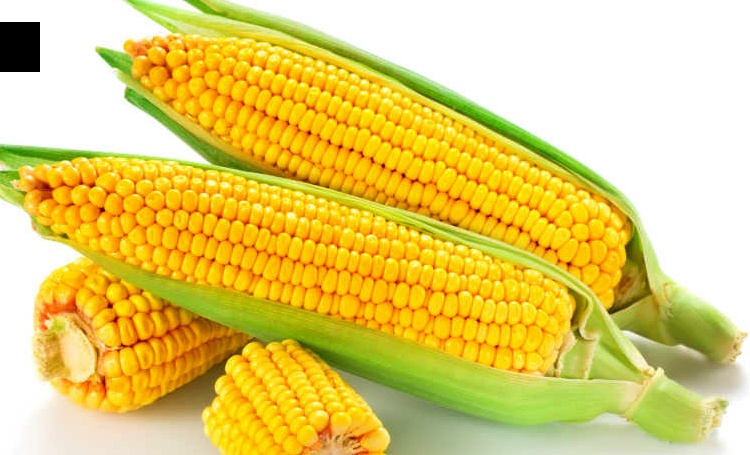corn: (118, 13, 731, 341), (3, 141, 651, 404)
